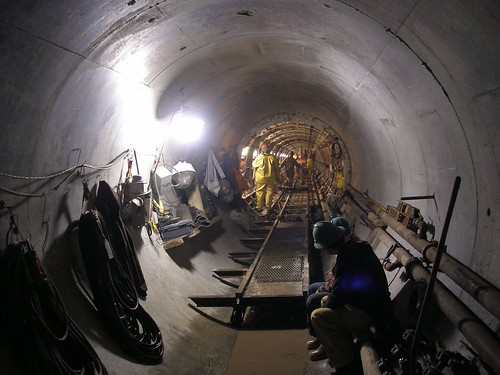person hardhat: (306, 220, 395, 373), (250, 141, 281, 214)
